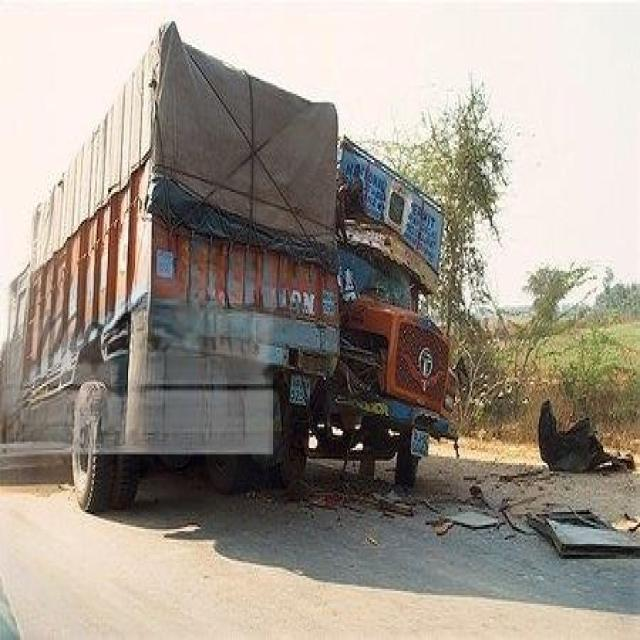accident: (291, 139, 459, 487)
truck: (0, 24, 340, 509)
